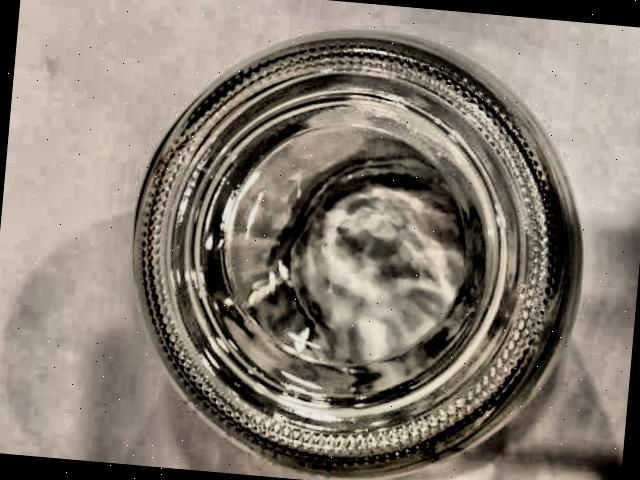Almennt: (104, 0, 603, 480)
